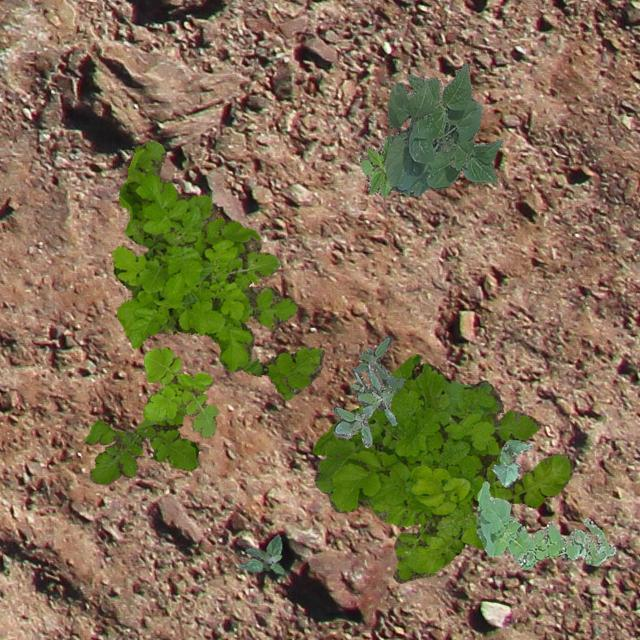crop: (383, 61, 502, 196), (491, 438, 532, 486)
weed: (312, 352, 572, 582), (112, 140, 324, 398), (474, 481, 616, 568), (84, 388, 198, 483), (142, 346, 218, 436), (330, 362, 396, 447), (349, 334, 404, 394), (358, 134, 408, 197), (238, 534, 284, 574)
